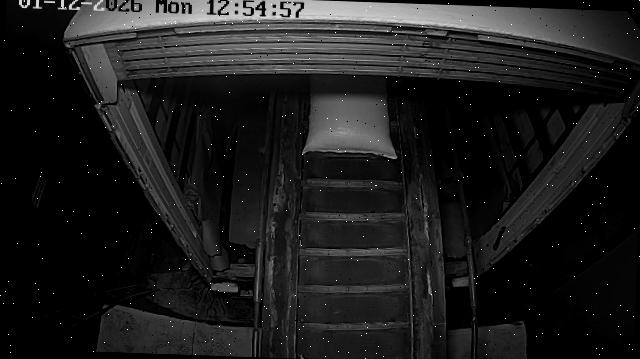bag: (304, 72, 399, 160)
